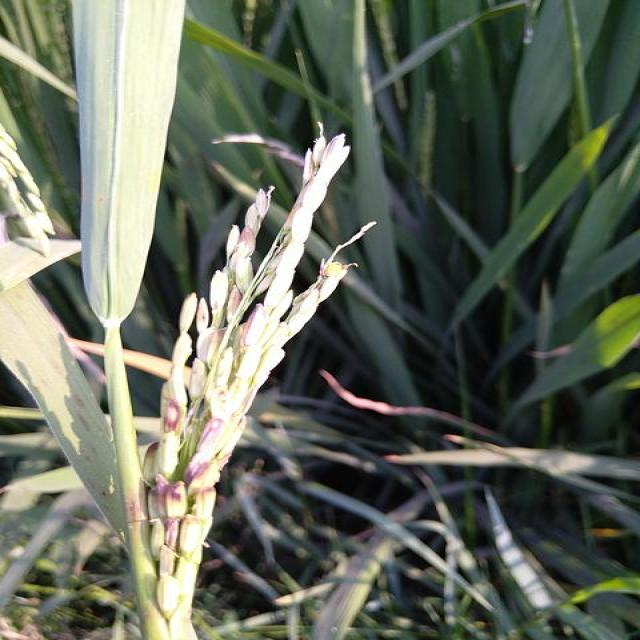Panicle Blight: (148, 474, 188, 552), (184, 418, 221, 488), (196, 298, 228, 368), (239, 302, 268, 347), (140, 442, 161, 488), (163, 391, 183, 433), (192, 486, 217, 519), (227, 285, 248, 324), (320, 133, 345, 165), (239, 226, 256, 262), (159, 545, 177, 578)
